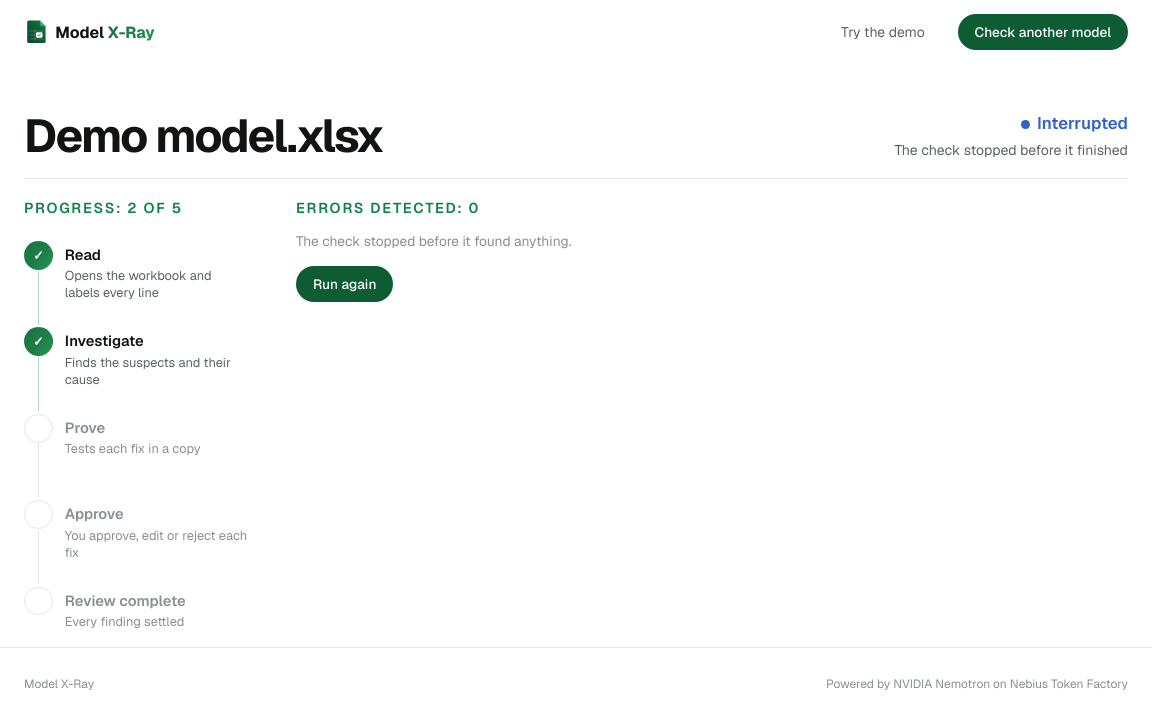
it: a run kept in the browser › a check interrupted by a reload says so, instead of asking for a decision nobody can make, and can be run again
This screenshot has width=1152, height=720.
Check: the text "Interrupted" is shown, box top-left (1021, 112), bottom-right (1128, 136)
Click the button "Run again" at (345, 284), box top-left (296, 266), bottom-right (393, 302)
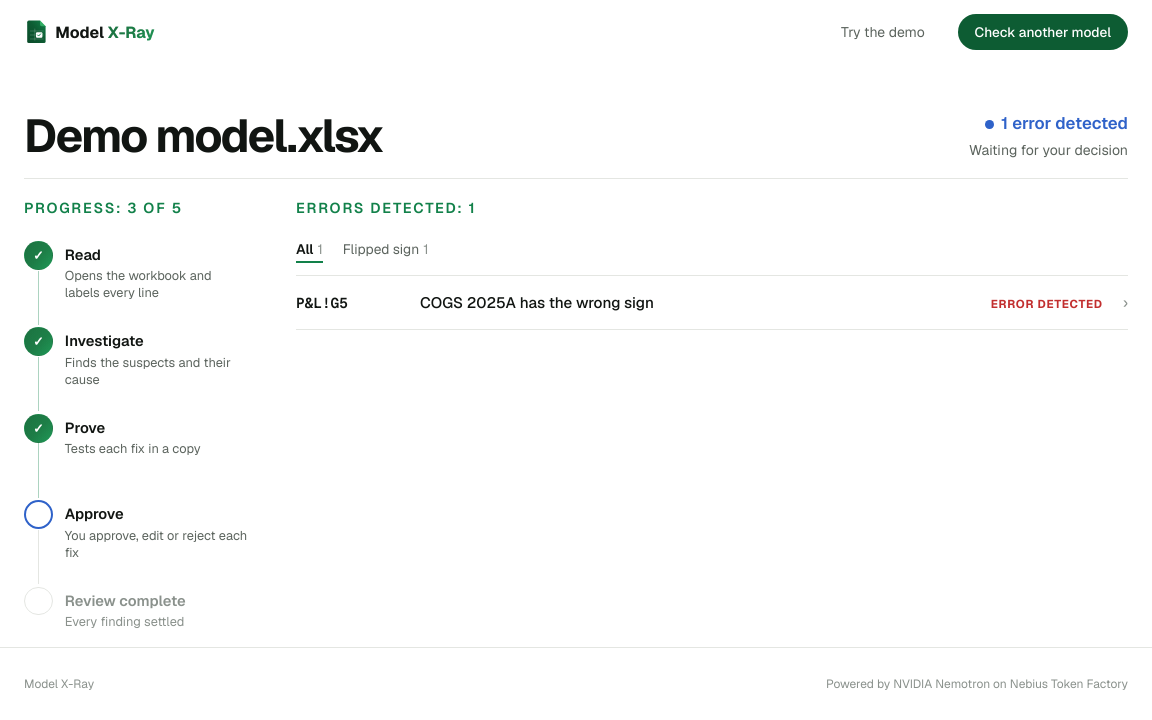
Check: the text "Errors detected: 1" is shown, box top-left (296, 199), bottom-right (476, 217)
